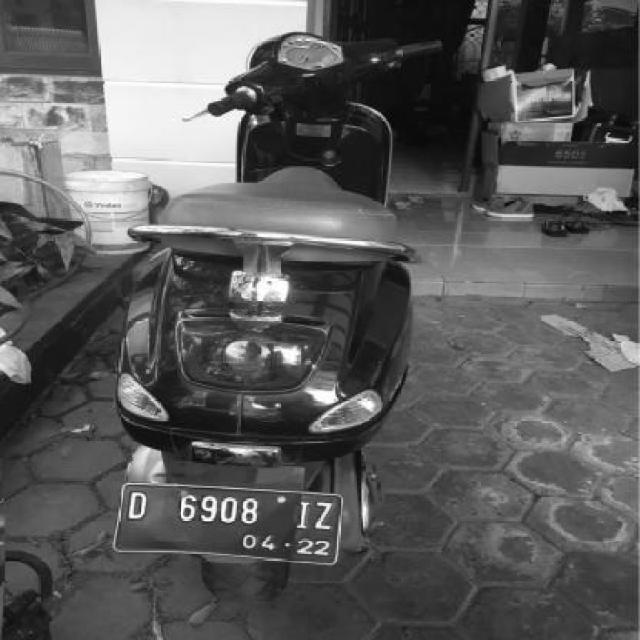0: (222, 488, 240, 528)
6: (176, 491, 196, 534)
8: (241, 492, 263, 530)
9: (202, 492, 216, 532)
D: (128, 487, 149, 523)
I: (294, 499, 311, 535)
Z: (311, 499, 340, 537)
